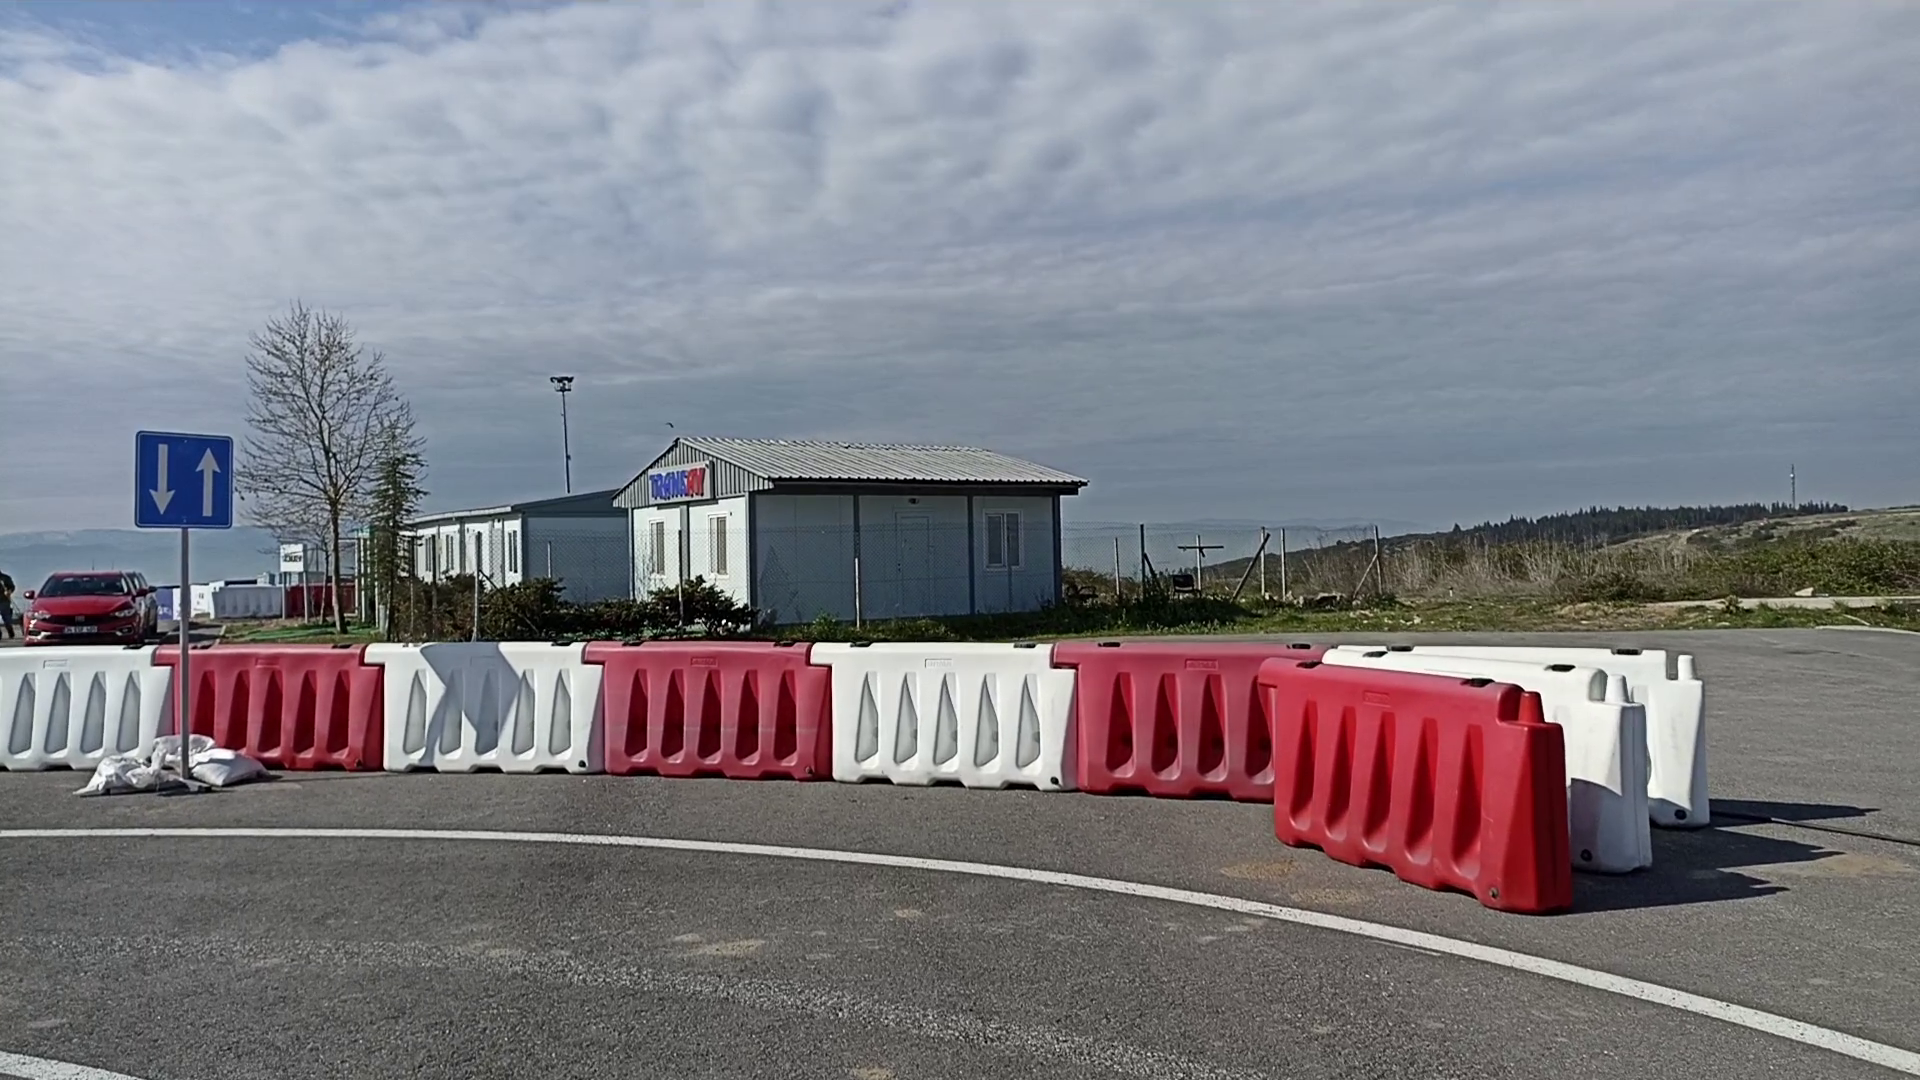oneway: (133, 429, 235, 531)
